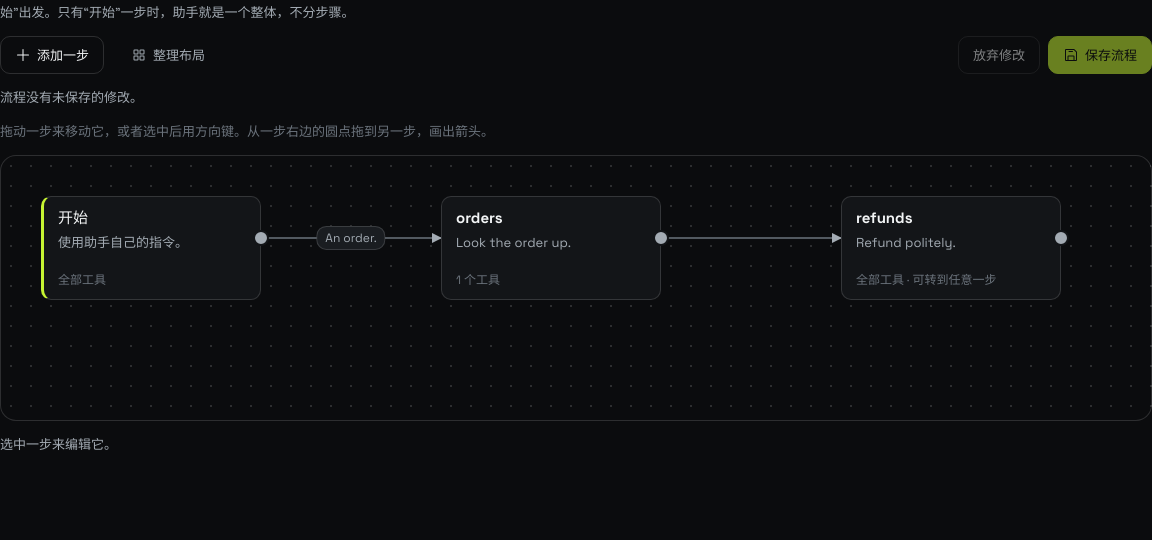
Test case: flow builder › edits a step and saves the flow as drawn
Click the button "orders Look the order up. 1 个工具": (551, 248) [441,196,661,300]
(page scrolled)
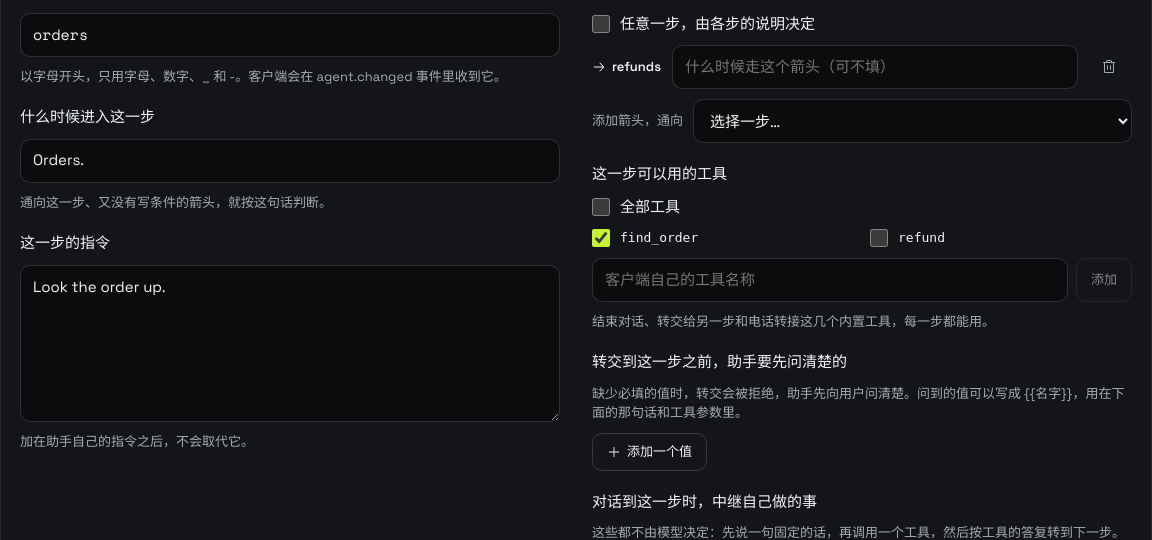
Replace the text in the text box labelled "这一步的指令" with "  Ask for the number first.  ": (290, 343) [20,264,560,422]
(page scrolled)
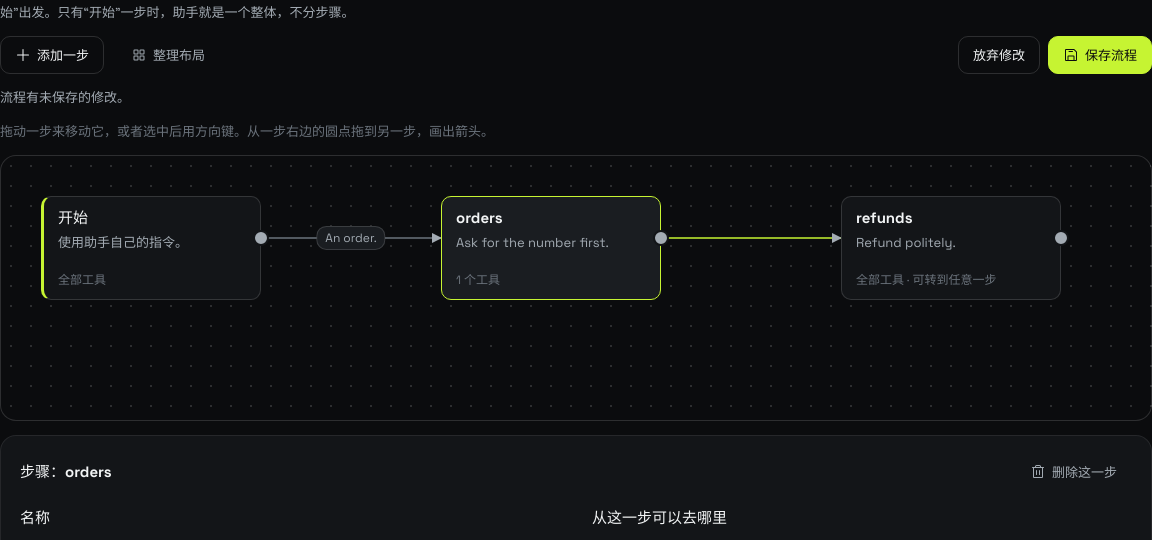
Expected: the text "未保存" is shown, [0,89,130,106]
Click the button "保存流程": (1100, 55) [1048,36,1151,74]
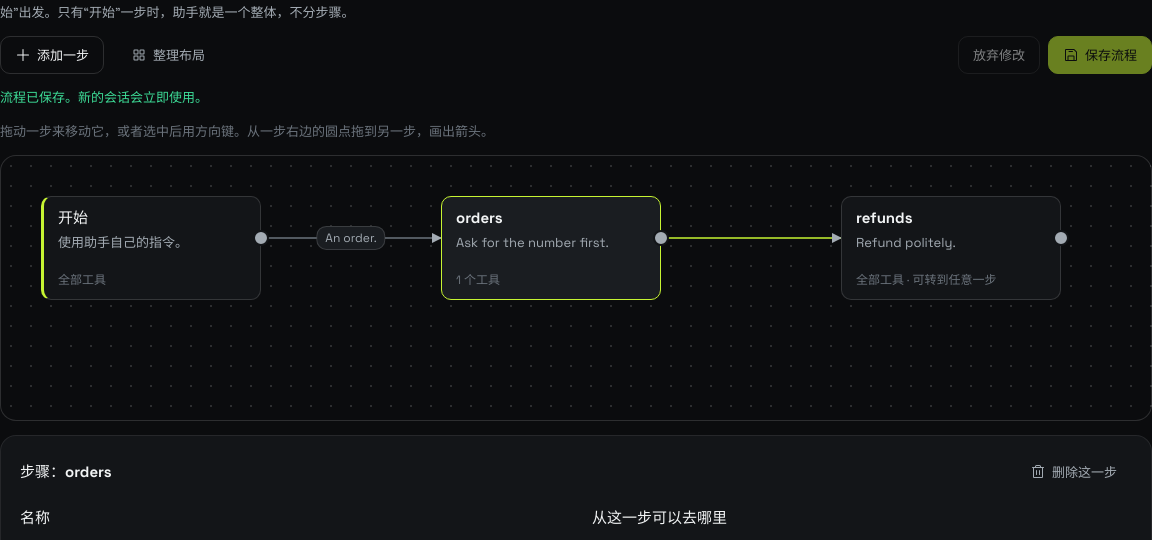
Now the text "已保存" is shown, box [0,89,208,106]
